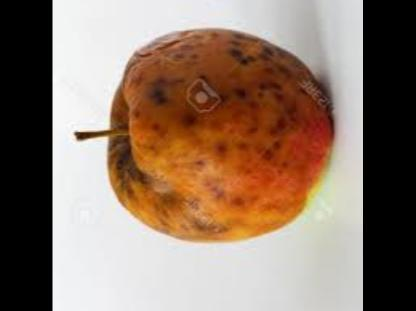defect: (81, 0, 363, 237)
